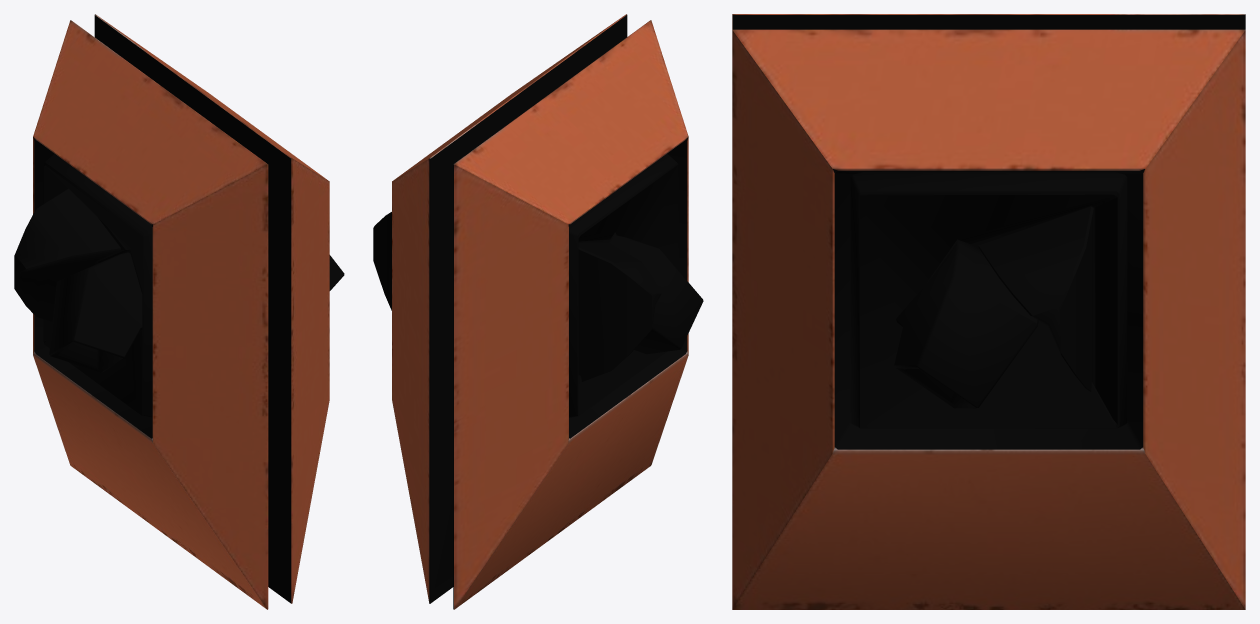
File: unit1.glb
3 renders of one model, left to right at view 1: azimuth 30°, elevation 25°; view 2: azimuth 150°, elevation 25°; view 3: azimuth 270°, elevation 25°, orthographic. The views are drawn at different scales.
Parts seen in each view (by area): view 1: Cube; view 2: Cube; view 3: Cube.
Boxes of the visible parts, x1,y1,x2,y2 form: Cube: [14, 14, 344, 609]; Cube: [373, 14, 703, 609]; Cube: [732, 14, 1245, 609].
Bounding box in the file's own units: 1.8 × 2.76 × 2.21.
1 material, 1 textured.
